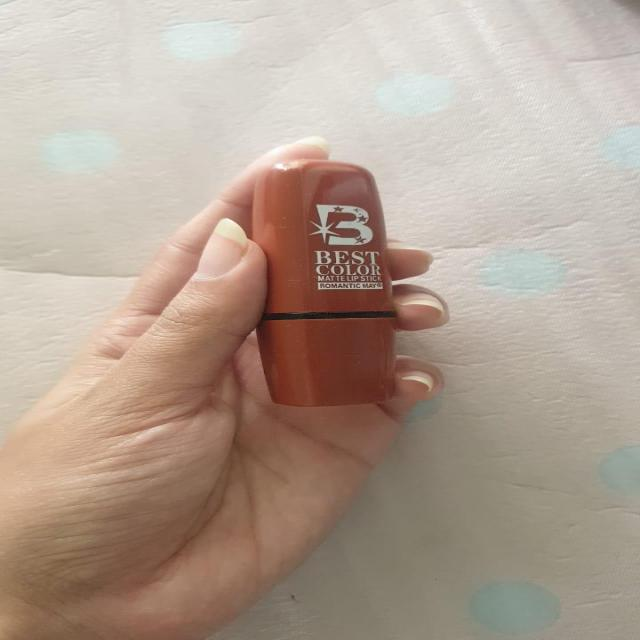lip stick: (216, 145, 453, 434)
